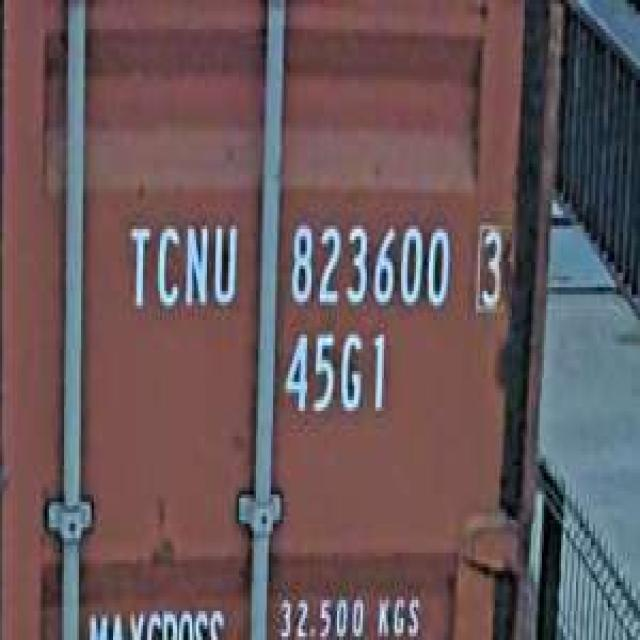dv: (469, 211, 508, 320)
owner: (122, 207, 241, 324)
serial: (282, 211, 454, 320)
size: (278, 324, 392, 426)
